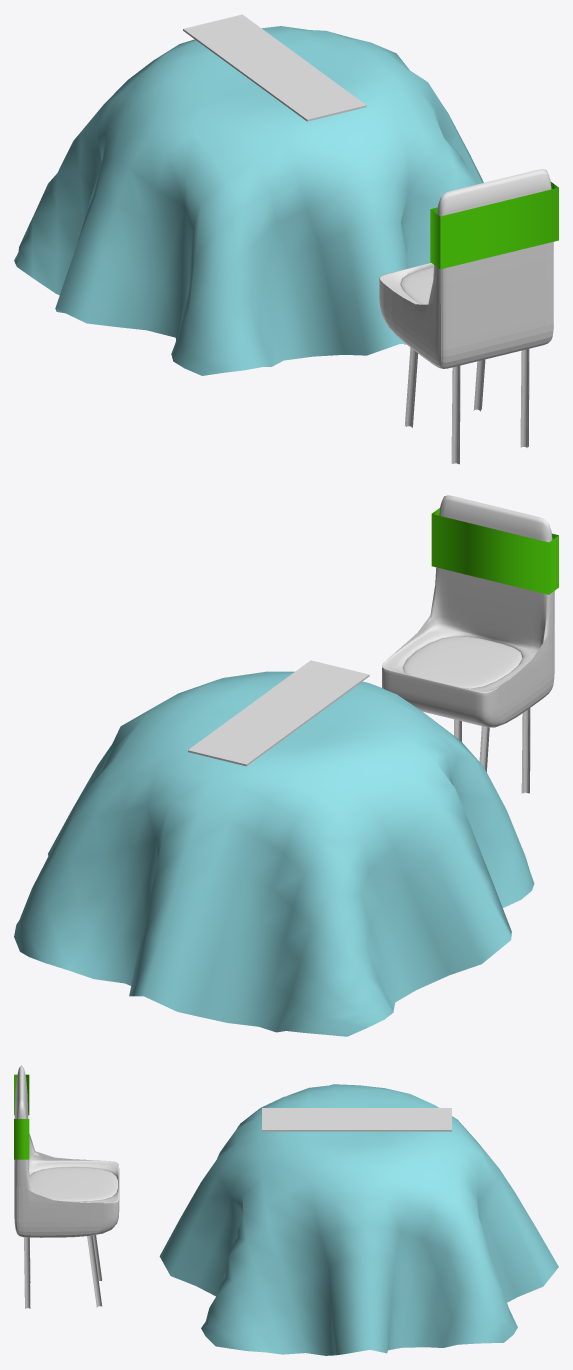
The model's file is tableTest8.gltf.
The picture shows the model from 3 angles, top to bottom: view 1: azimuth 30°, elevation 25°; view 2: azimuth 150°, elevation 25°; view 3: azimuth 270°, elevation 25°; orthographic projection. The views are drawn at different scales.
Visible parts, largest first — view 1: TableCloth, Chair.001, TableRunner, ChairRunner; view 2: TableCloth, Chair.001, TableRunner, ChairRunner; view 3: TableCloth, Chair.001, TableRunner, ChairRunner.
Part boxes in pixels (x1,y1,x2,y2): TableCloth: (14,26,483,375); Chair.001: (379,169,553,464); TableRunner: (183,14,366,121); ChairRunner: (430,182,558,269); TableCloth: (14,671,534,1036); Chair.001: (382,495,554,793); TableRunner: (188,660,369,766); ChairRunner: (431,508,558,594); TableCloth: (159,1084,558,1355); Chair.001: (14,1065,119,1308); TableRunner: (262,1108,451,1131); ChairRunner: (14,1074,29,1159).
Size of the model in its own units: 152 by 92.26 by 208.
